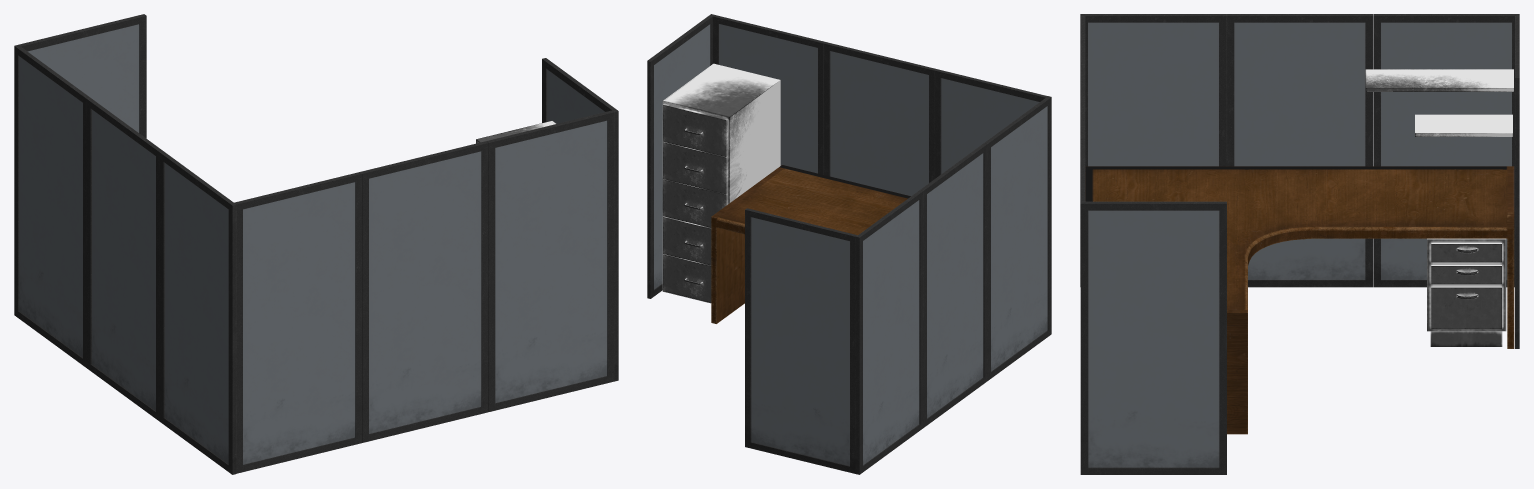
The model's file is oficina.obj.
3 renders of one model, left to right at view 1: azimuth 30°, elevation 25°; view 2: azimuth 150°, elevation 25°; view 3: azimuth 270°, elevation 25°, orthographic. The views are drawn at different scales.
Parts seen in each view (by area): view 1: 02; view 2: 02, 01; view 3: 02, 01.
Boxes of the visible parts, left/top/right/bottom form: 02: left=14, top=14, right=618, bottom=474; 02: left=647, top=14, right=1051, bottom=474; 01: left=662, top=63, right=780, bottom=303; 02: left=1080, top=14, right=1519, bottom=474; 01: left=1365, top=69, right=1513, bottom=346.
Bounding box in the file's own units: 3.98 × 2.65 × 3.89.
Materials: 2 (2 with a texture image).
